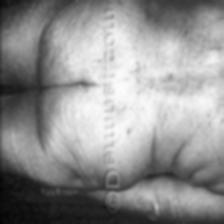Non-Cancerous Skin Condition: (132, 60, 174, 94), (124, 127, 131, 136)
